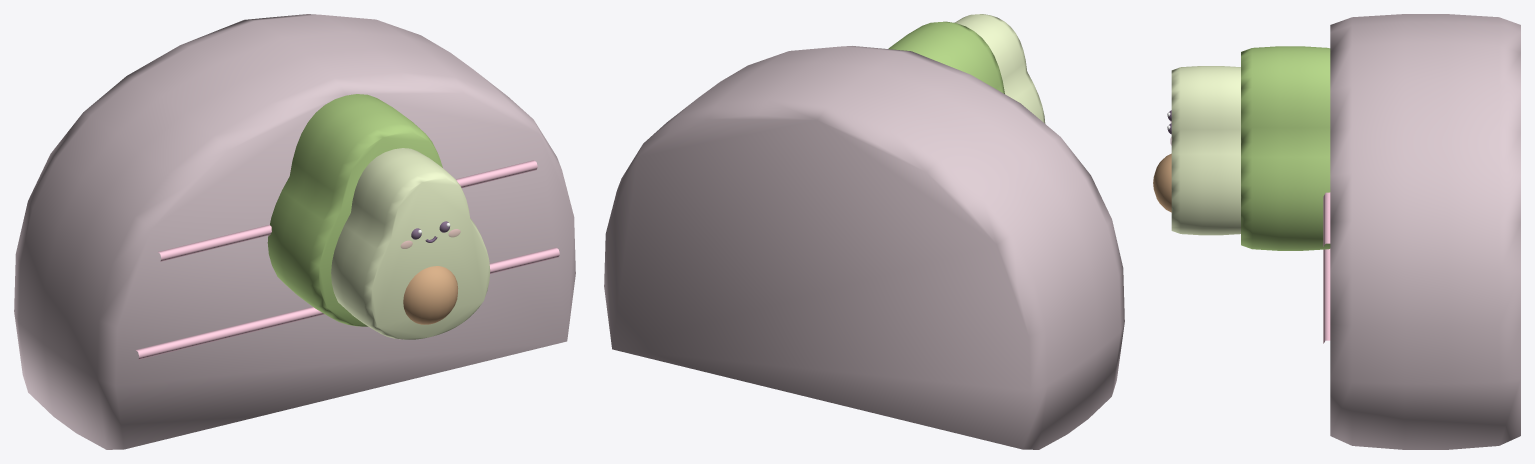
File: decor_5_candy.glb
The picture shows the model from 3 angles, left to right: view 1: azimuth 30°, elevation 25°; view 2: azimuth 150°, elevation 25°; view 3: azimuth 270°, elevation 25°; orthographic projection. The views are drawn at different scales.
Visible parts, largest first — view 1: decor_5_candy; view 2: decor_5_candy; view 3: decor_5_candy.
Part boxes in pixels (box(x1,y1,x2,y2)): decor_5_candy: box(14, 14, 575, 449); decor_5_candy: box(604, 14, 1124, 449); decor_5_candy: box(1153, 14, 1520, 449).
Size of the model in its own units: 8.68 by 5.57 by 6.15.
